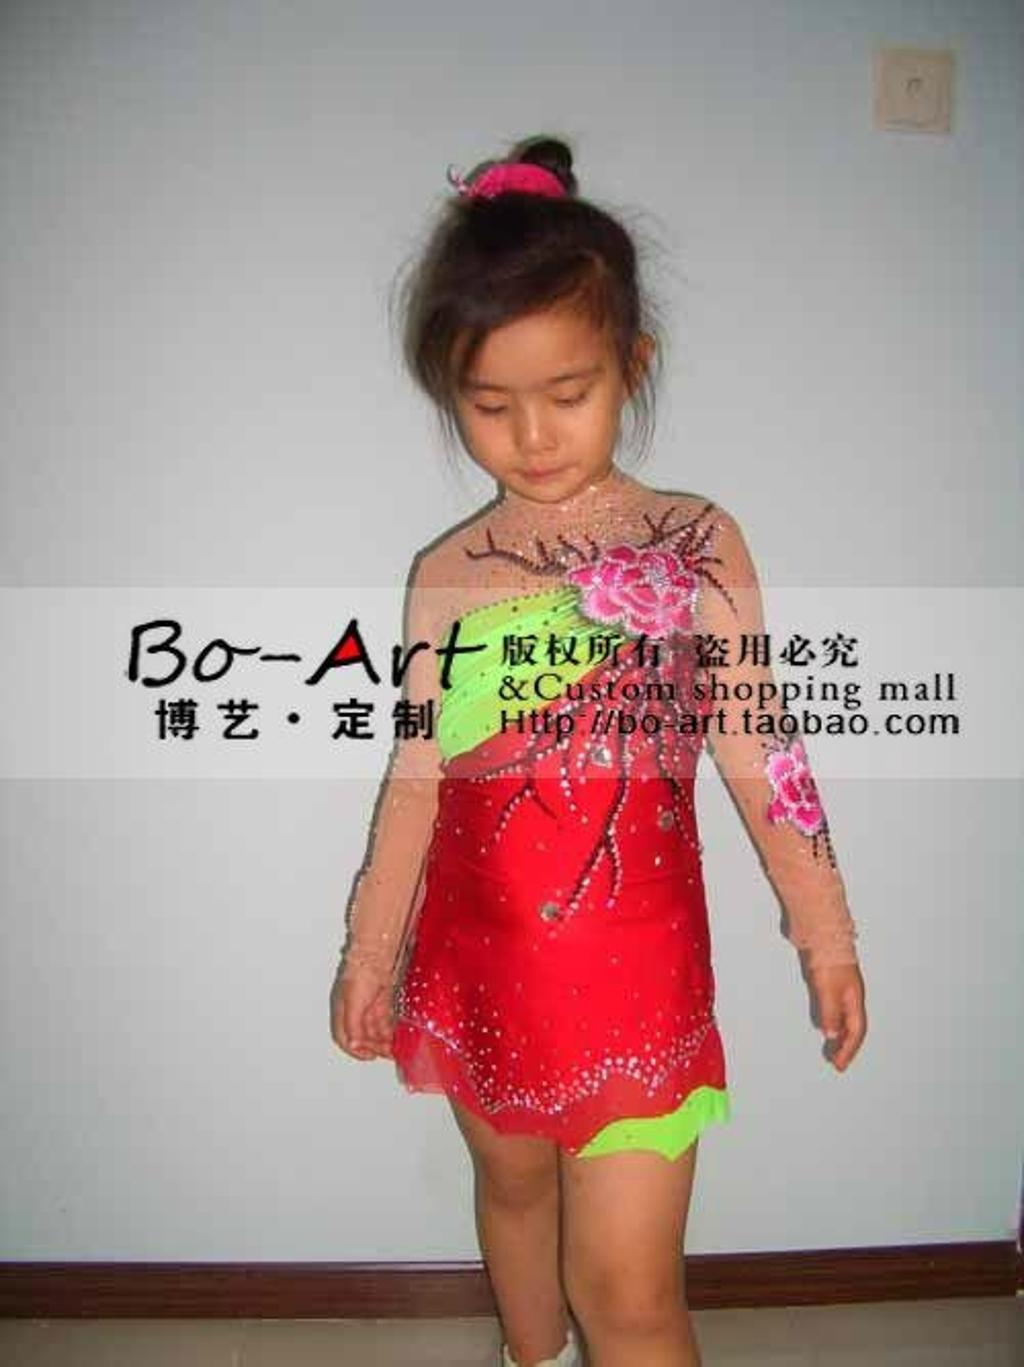face: (453, 301, 621, 498)
